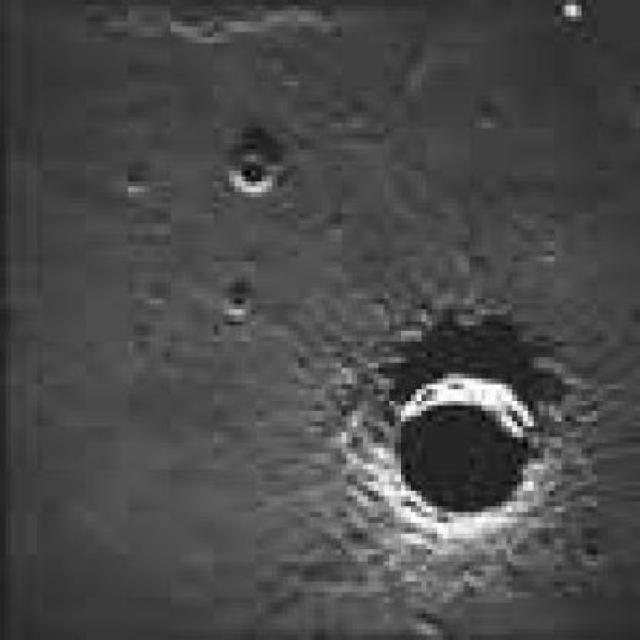crater: (394, 386, 531, 520), (235, 156, 273, 189)
